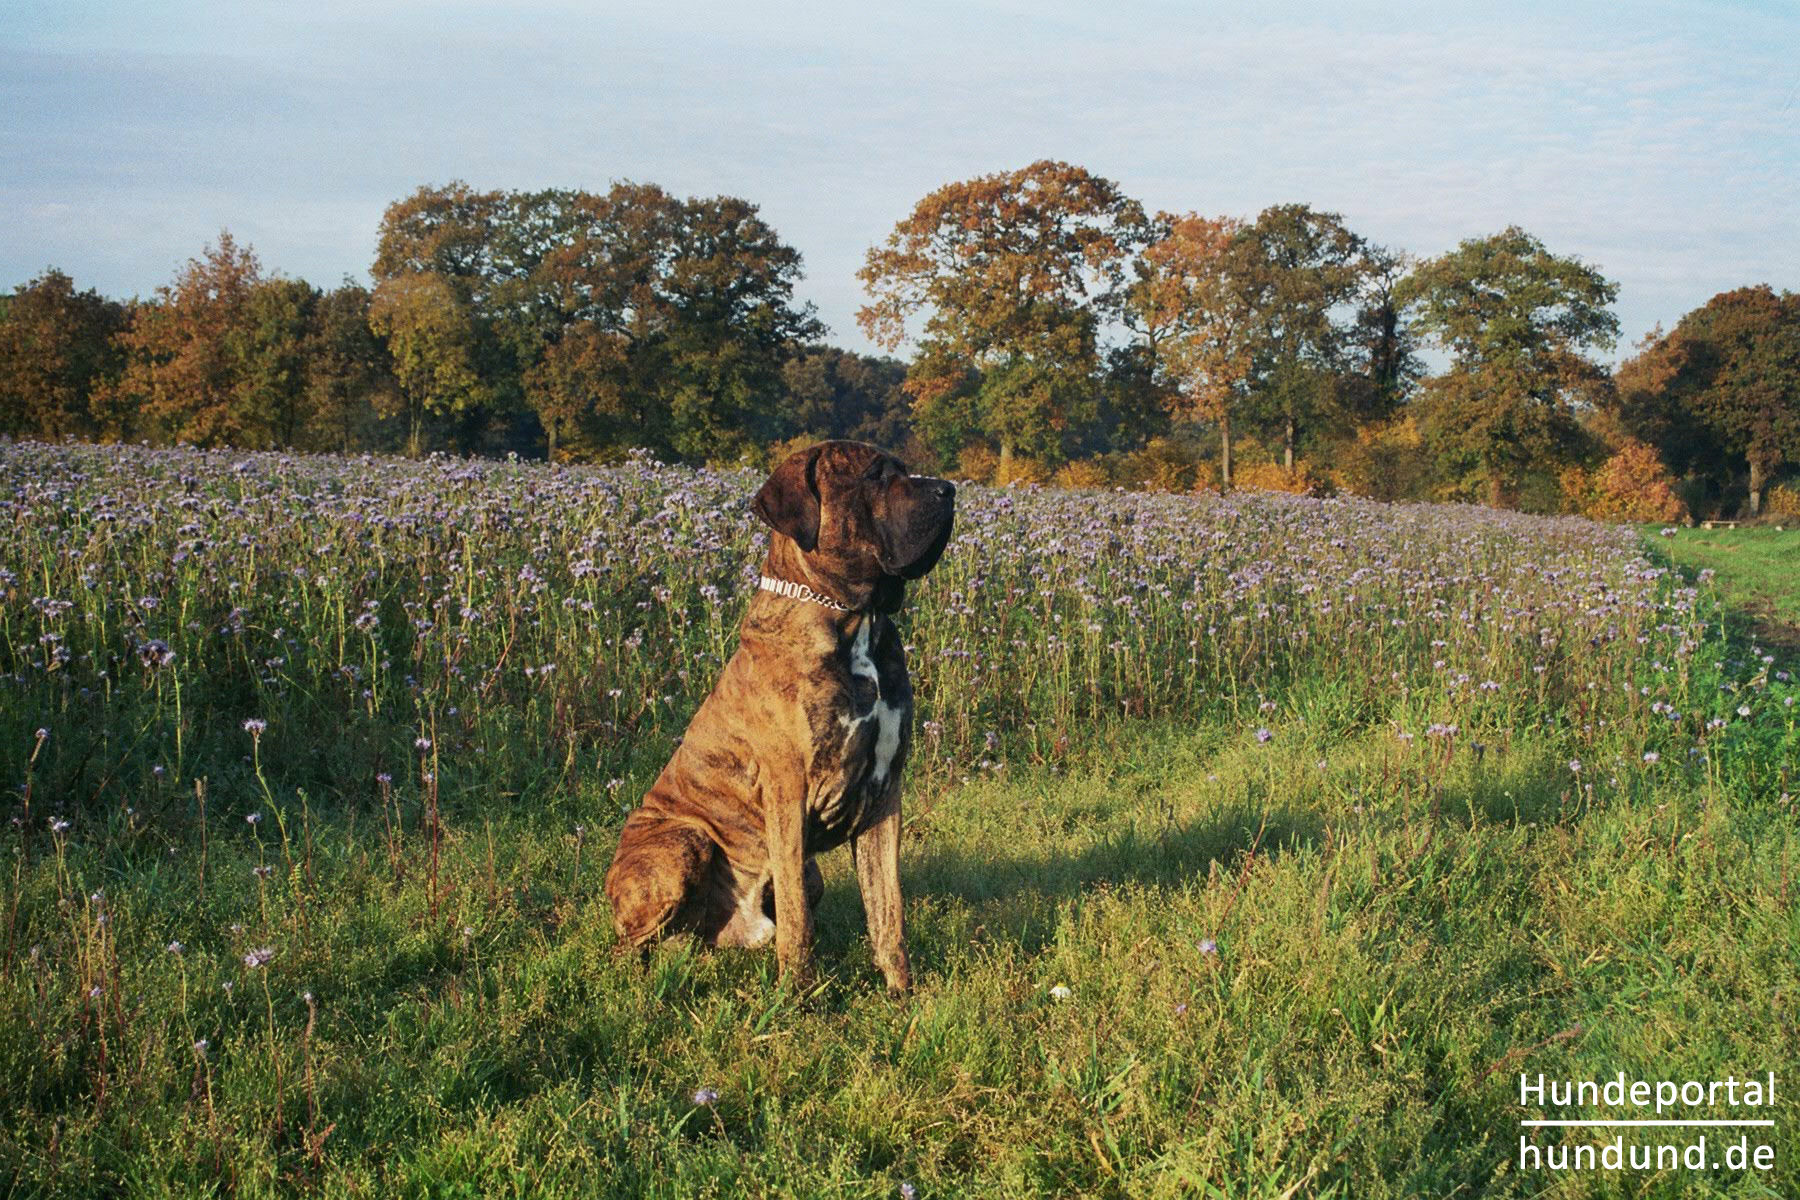fila_brasileiro: (601, 439, 956, 1000)
